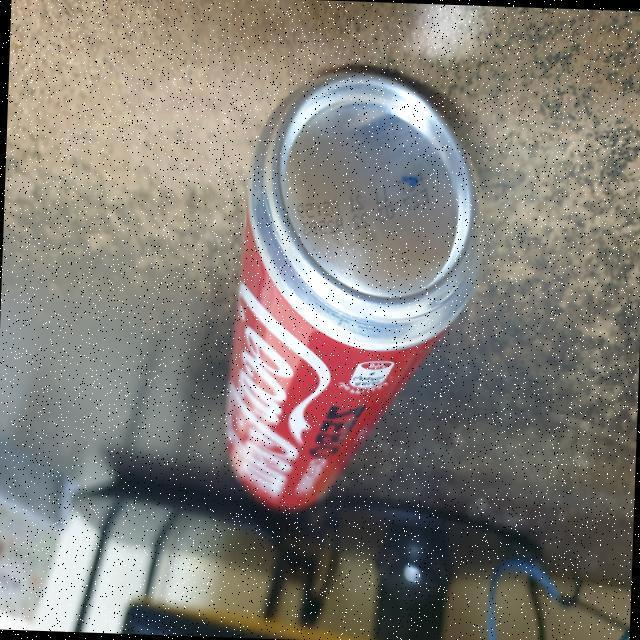can: (219, 64, 501, 523)
